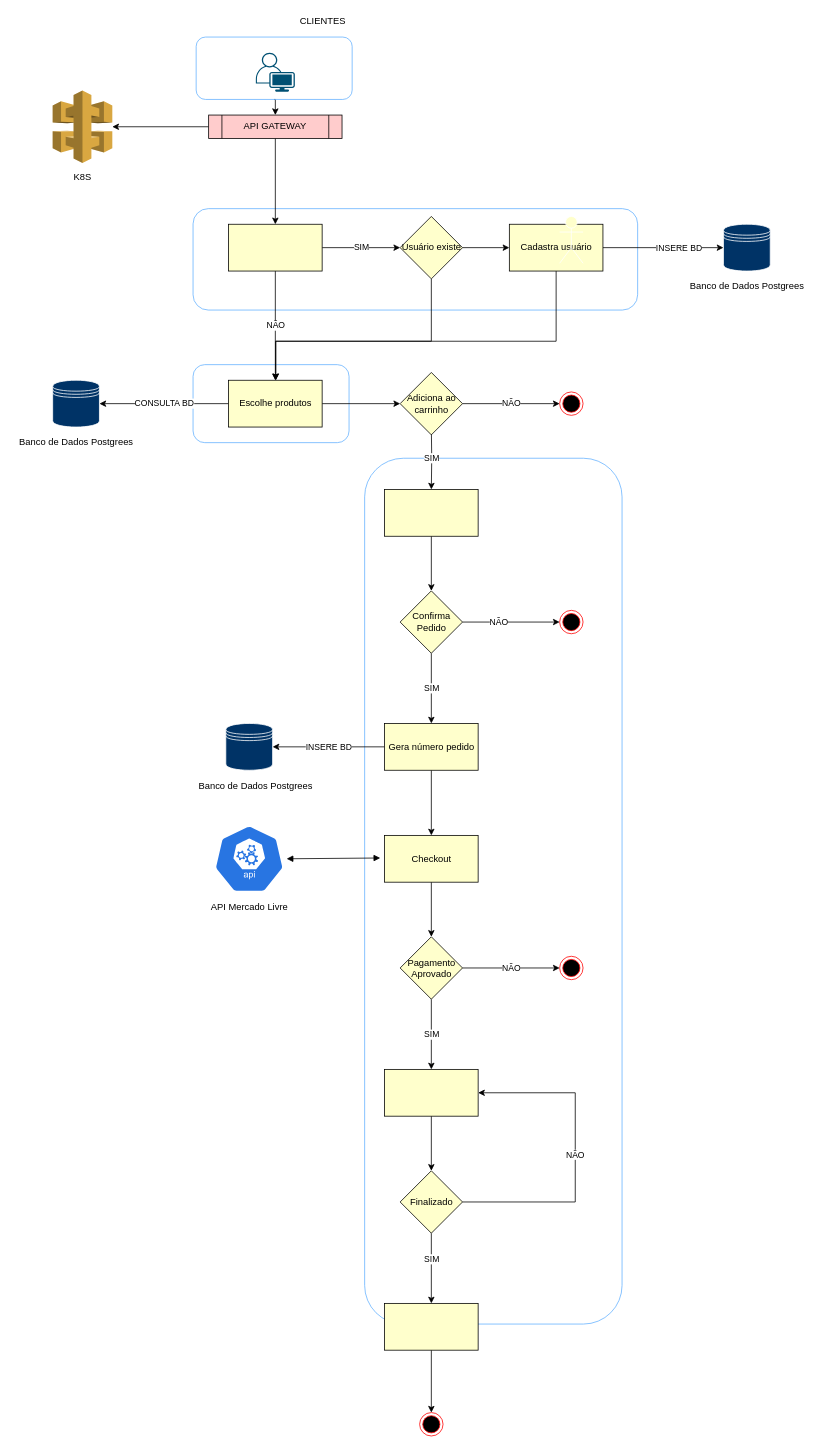
This 822x1449 diagram has some shape labels left out. Here are the shapes that lost their labels. From the top down, the centre of each, then its label:
the point at 275,247: Autenticação
the point at 571,239: Actor
the point at 431,512: Revisa pedido
the point at 431,1092: Acompanha Status Pedido
the point at 431,1326: Retira o pedido
